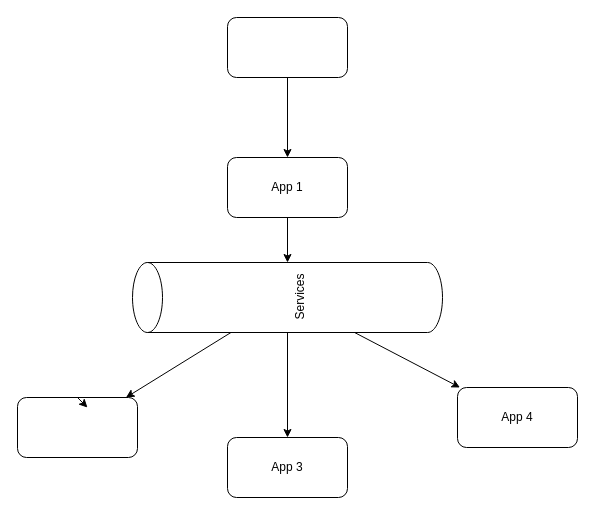
The diagram is 595 pixels wide and 515 high, and some of its shapes have lost their labels. The shapes that lost their labels are listed below. From the top down, each one's box as (x1, y1, x2, y2) in pixels, then its label:
(226, 16, 348, 78): UI
(16, 396, 138, 458): App 2
